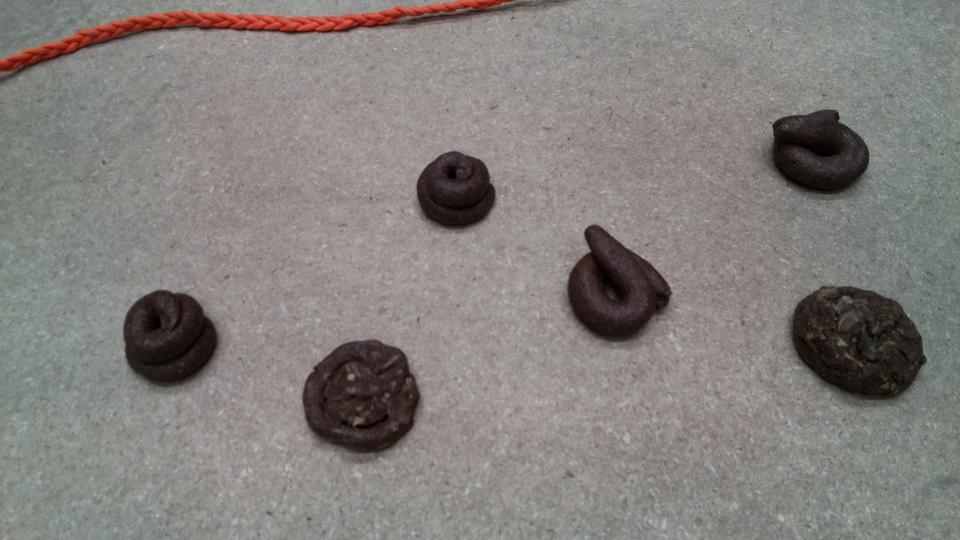poop: (789, 283, 929, 403), (297, 333, 425, 459), (565, 222, 675, 345), (120, 283, 219, 389), (769, 106, 873, 197), (415, 149, 499, 231)
rope: (1, 1, 528, 78)
